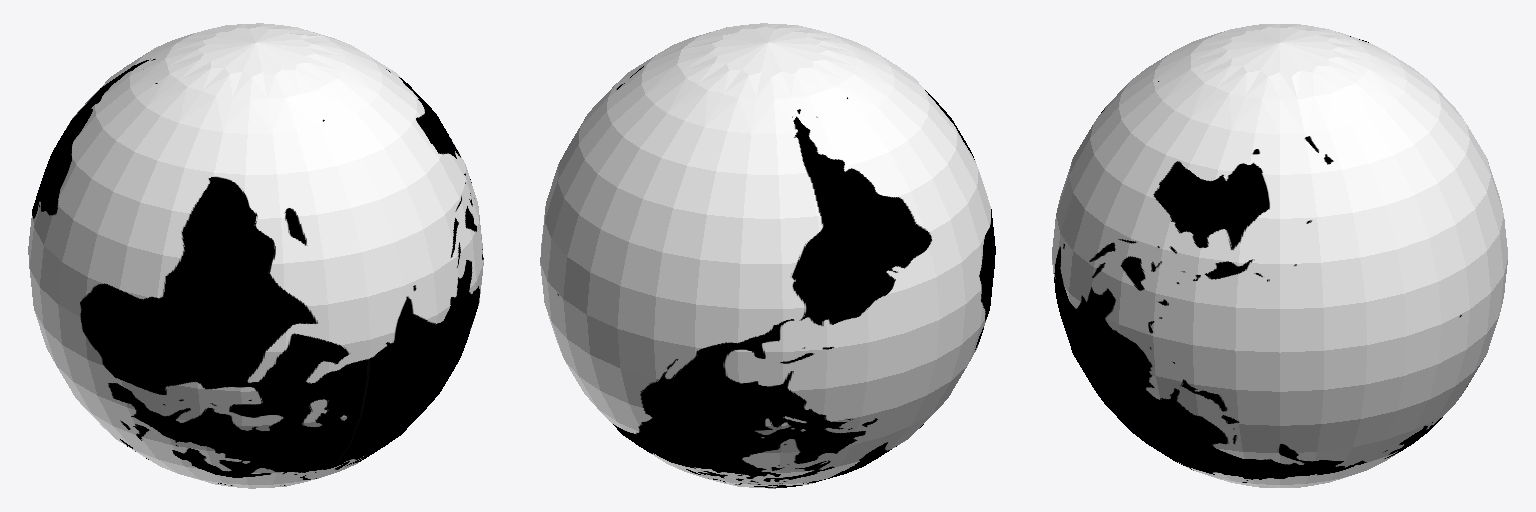
The picture shows the model from 3 angles: view 1: azimuth 30°, elevation 25°; view 2: azimuth 150°, elevation 25°; view 3: azimuth 270°, elevation 25°; orthographic projection.
Parts seen in each view (by area): view 1: sphere1; view 2: sphere1; view 3: sphere1.
Boxes of the visible parts, box(x1,y1,x2,y2) form: sphere1: box(28, 23, 483, 488); sphere1: box(540, 23, 995, 488); sphere1: box(1052, 24, 1507, 487).
Size of the model in its own units: 1.92 by 1.98 by 1.92.
1 materials, 1 textured.